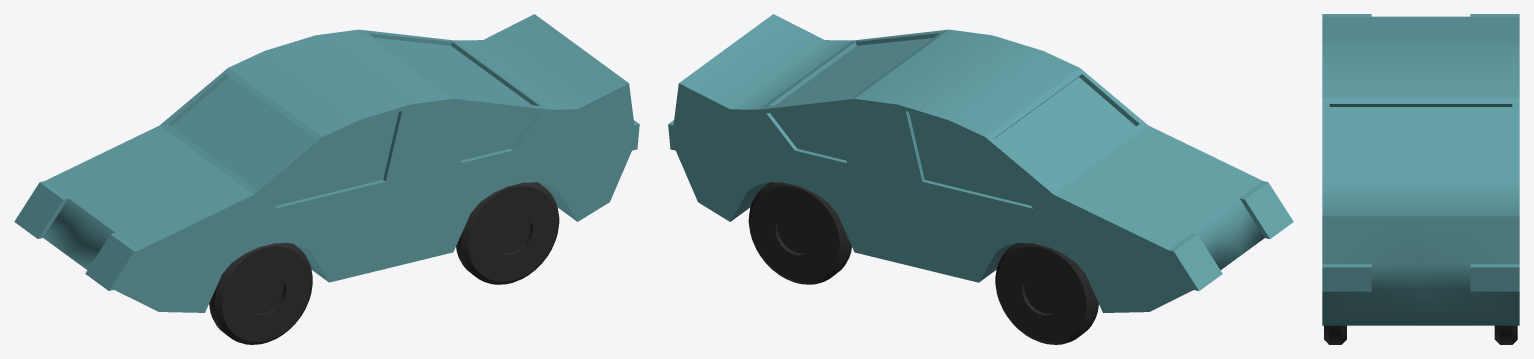
File: Car.fbx
3 views of the same model, side by side, from view 1: azimuth 30°, elevation 25°; view 2: azimuth 150°, elevation 25°; view 3: azimuth 270°, elevation 25° (orthographic). The views are drawn at different scales.
Parts seen in each view (by area): view 1: pCylinder10; view 2: pCylinder10; view 3: pCylinder10.
Part boxes in pixels (box(x1,y1,x2,y2)): pCylinder10: box(14, 14, 639, 344); pCylinder10: box(668, 14, 1293, 344); pCylinder10: box(1322, 14, 1519, 344).
Bounding box in the file's own units: 11.64 × 4.33 × 3.59.
